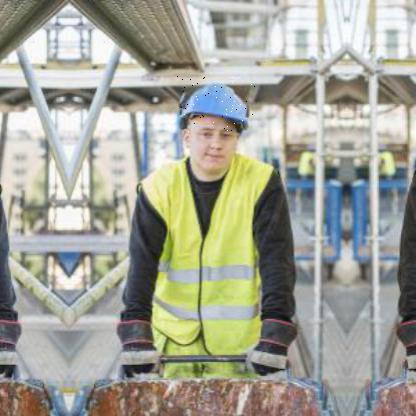safetyhelmet: (176, 76, 256, 133)
